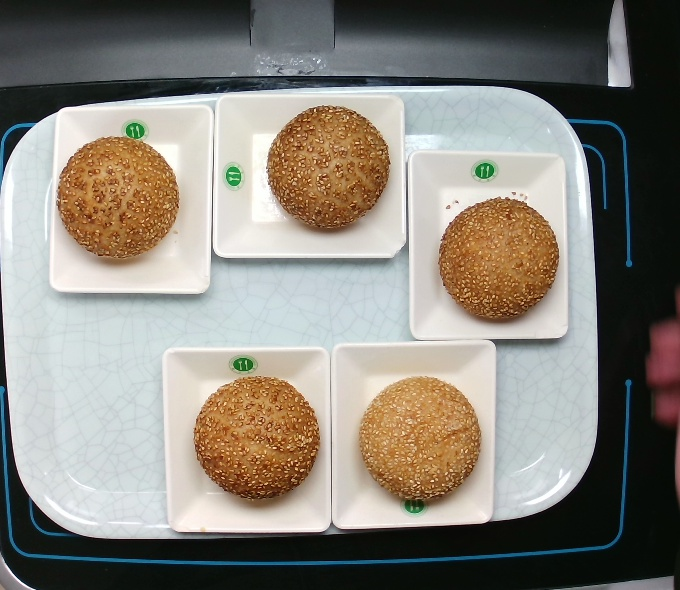wcq-MaCi: (264, 96, 394, 239), (355, 375, 480, 512), (191, 378, 322, 507), (53, 132, 177, 262), (441, 187, 558, 323)
